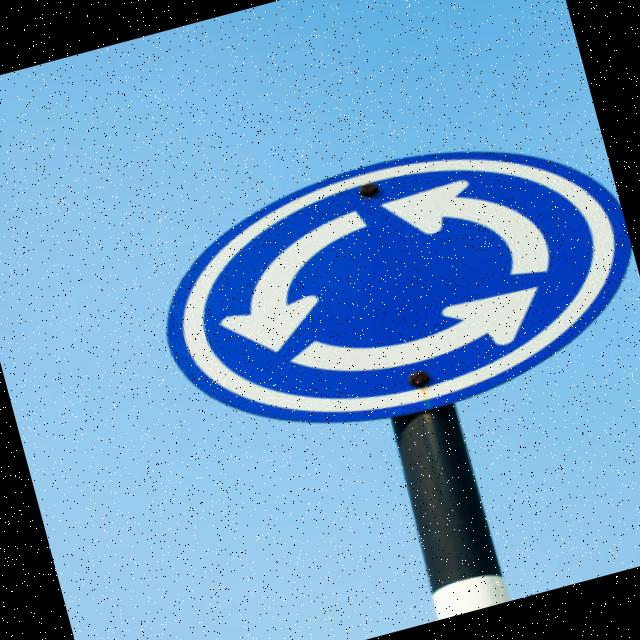round_about: (129, 97, 640, 470)
